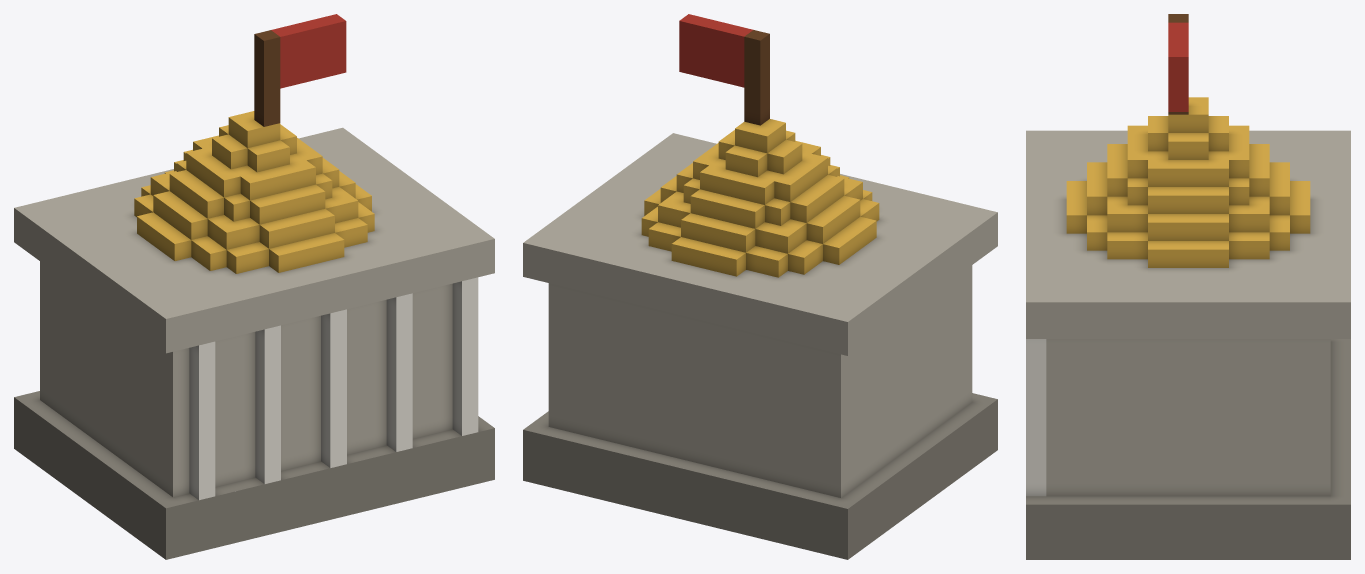
The model's file is c_palace.glb.
3 views of the same model, side by side, from view 1: azimuth 30°, elevation 25°; view 2: azimuth 150°, elevation 25°; view 3: azimuth 270°, elevation 25° (orthographic). The views are drawn at different scales.
Visible parts, largest first — view 1: c_palace_body; view 2: c_palace_body; view 3: c_palace_body.
Part boxes in pixels (x1,y1,x2,y2): c_palace_body: (14, 14, 494, 559); c_palace_body: (523, 14, 997, 559); c_palace_body: (1026, 14, 1350, 559).
Size of the model in its own units: 1.25 by 1.56 by 1.
1 material, 1 textured.
